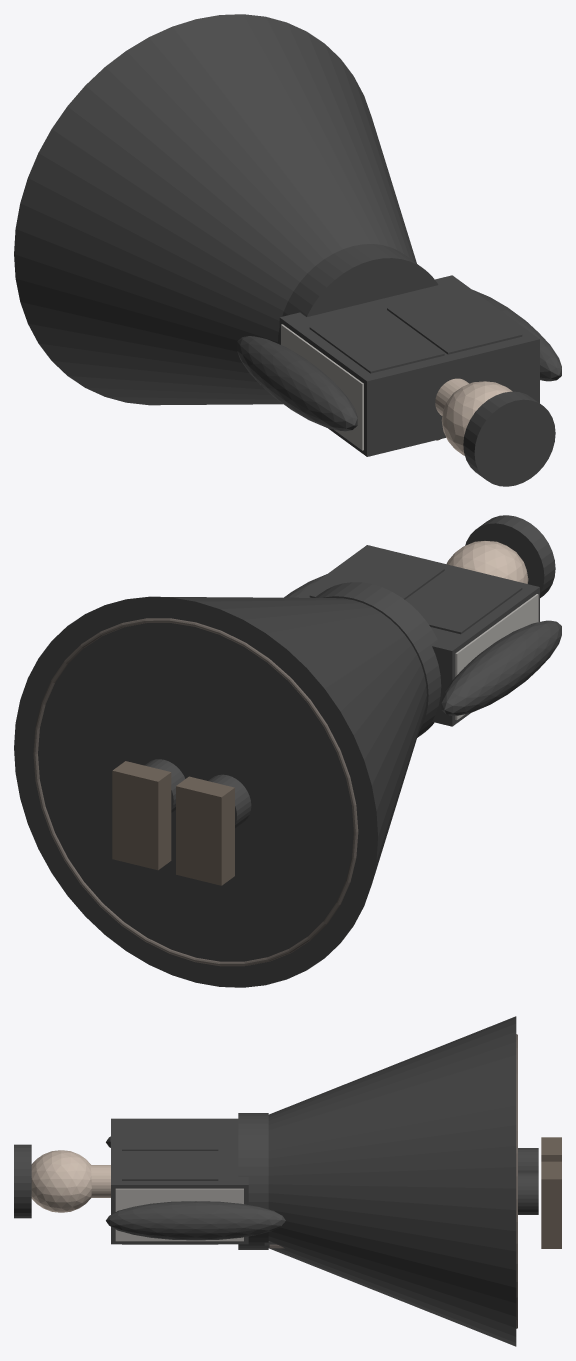
The model's file is MASTER_032_STAGE3_DETAIL.glb.
The picture shows the model from 3 angles, top to bottom: view 1: azimuth 30°, elevation 25°; view 2: azimuth 150°, elevation 25°; view 3: azimuth 270°, elevation 25°; orthographic projection. The views are drawn at different scales.
Parts seen in each view (by area): view 1: slot_lower_main__fund_i_gjatë, slot_upper_inner__këmishë, slot_headwear__mbulesë_koke, slot_waist__brez, slot_upper_inner_sleeve_L, slot_upper_outer__jelek/xhamadan_L, slot_upper_outer__jelek/xhamadan_R, mannequin_torso, mannequin_head, slot_upper_inner_sleeve_R; view 2: slot_lower_main__fund_i_gjatë, slot_footwear__opinga_R, slot_footwear__opinga_L, slot_upper_inner_sleeve_L, detail_skirt_hem, slot_upper_inner__këmishë, slot_upper_outer__jelek/xhamadan_L, slot_waist__brez, slot_headwear__mbulesë_koke, slot_upper_outer__jelek/xhamadan_R, mannequin_head, mannequin_torso (+2 smaller); view 3: slot_lower_main__fund_i_gjatë, slot_upper_inner_sleeve_R, slot_upper_inner__këmishë, mannequin_head, slot_waist__brez, slot_upper_outer__jelek/xhamadan_R, slot_upper_outer__jelek/xhamadan_L, mannequin_torso, slot_footwear__opinga_R, slot_headwear__mbulesë_koke, slot_legwear__çorape_R, mannequin_neck (+3 smaller).
Part boxes in pixels (left/top/right/bottom): slot_lower_main__fund_i_gjatë: left=14, top=14, right=416, bottom=405; slot_upper_inner__këmishë: left=279, top=275, right=539, bottom=456; slot_headwear__mbulesë_koke: left=463, top=391, right=555, bottom=486; slot_waist__brez: left=278, top=244, right=438, bottom=344; slot_upper_inner_sleeve_L: left=237, top=336, right=357, bottom=431; slot_upper_outer__jelek/xhamadan_L: left=309, top=309, right=444, bottom=373; slot_upper_outer__jelek/xhamadan_R: left=387, top=290, right=522, bottom=354; mannequin_torso: left=281, top=324, right=363, bottom=450; mannequin_head: left=441, top=381, right=512, bottom=455; slot_upper_inner_sleeve_R: left=472, top=289, right=561, bottom=381; slot_lower_main__fund_i_gjatë: left=14, top=596, right=426, bottom=987; slot_footwear__opinga_R: left=112, top=761, right=171, bottom=870; slot_footwear__opinga_L: left=176, top=776, right=234, bottom=885; slot_upper_inner_sleeve_L: left=441, top=620, right=561, bottom=715; detail_skirt_hem: left=33, top=618, right=358, bottom=966; slot_upper_inner__këmishë: left=295, top=545, right=539, bottom=726; slot_upper_outer__jelek/xhamadan_L: left=406, top=570, right=522, bottom=634; slot_waist__brez: left=315, top=582, right=441, bottom=737; slot_headwear__mbulesë_koke: left=465, top=515, right=555, bottom=597; slot_upper_outer__jelek/xhamadan_R: left=309, top=551, right=444, bottom=599; mannequin_head: left=446, top=541, right=528, bottom=583; mannequin_torso: left=455, top=594, right=538, bottom=720; slot_lower_main__fund_i_gjatë: left=268, top=1016, right=516, bottom=1346; slot_upper_inner_sleeve_R: left=106, top=1201, right=285, bottom=1240; slot_upper_inner__këmishë: left=111, top=1118, right=248, bottom=1244; mannequin_head: left=31, top=1150, right=91, bottom=1212; slot_waist__brez: left=238, top=1113, right=268, bottom=1249; slot_upper_outer__jelek/xhamadan_R: left=122, top=1151, right=218, bottom=1244; slot_upper_outer__jelek/xhamadan_L: left=122, top=1121, right=218, bottom=1150; mannequin_torso: left=115, top=1188, right=243, bottom=1241; slot_footwear__opinga_R: left=541, top=1161, right=561, bottom=1248; slot_headwear__mbulesë_koke: left=14, top=1144, right=31, bottom=1218; slot_legwear__çorape_R: left=518, top=1172, right=538, bottom=1214; mannequin_neck: left=91, top=1165, right=110, bottom=1197.
Bounding box in the file's own units: 1.03 × 1.03 × 1.71.
